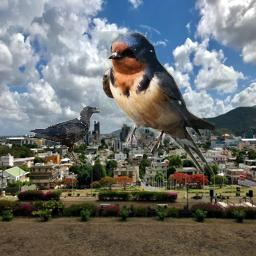Crow: (29, 106, 101, 166)
Swallow: (99, 31, 215, 178)
